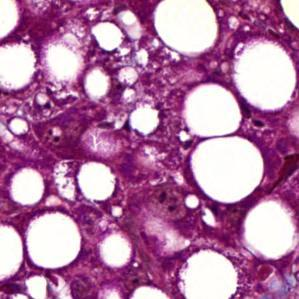steatosis: (186, 134, 268, 206), (28, 210, 80, 271)
